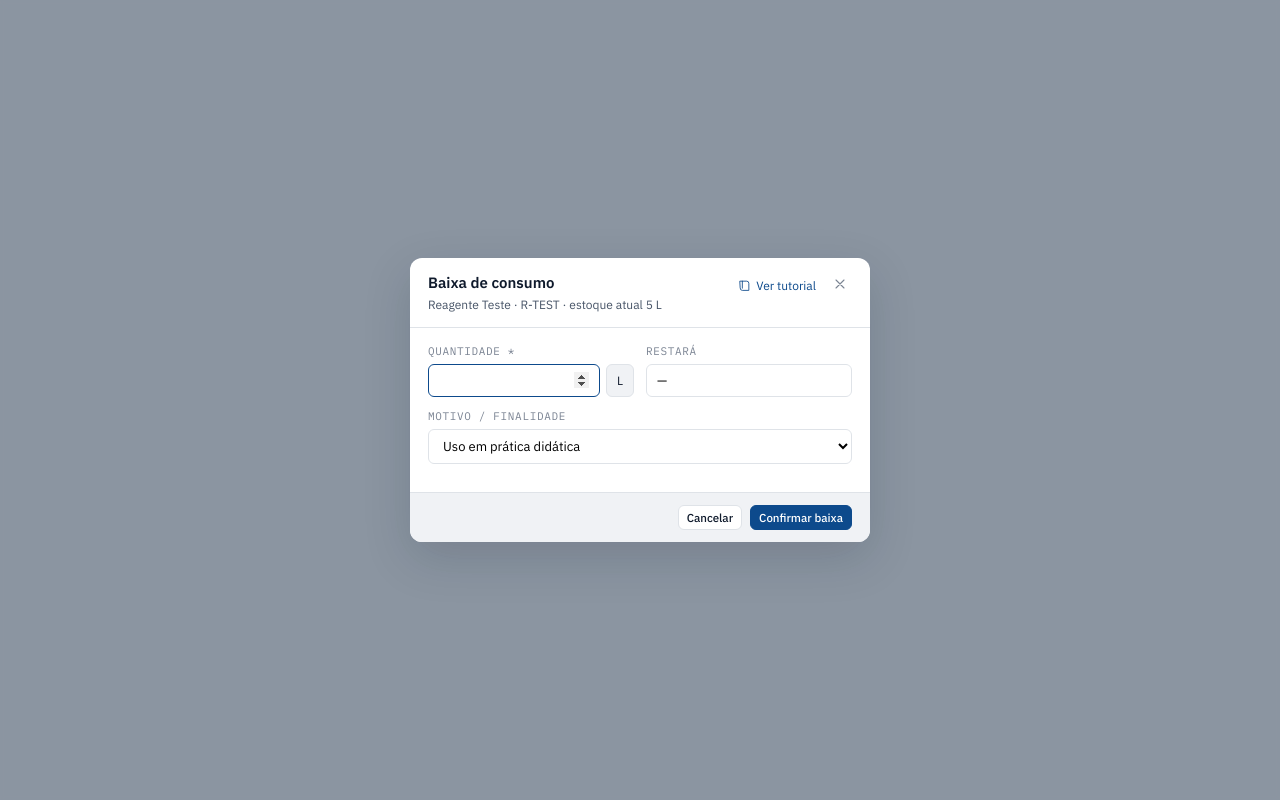
it: FormBaixa › recusa quantidade vazia com erro inline, sem alert
Click the button "Confirmar baixa" at coordinates (801, 518), box [750, 505, 852, 530]
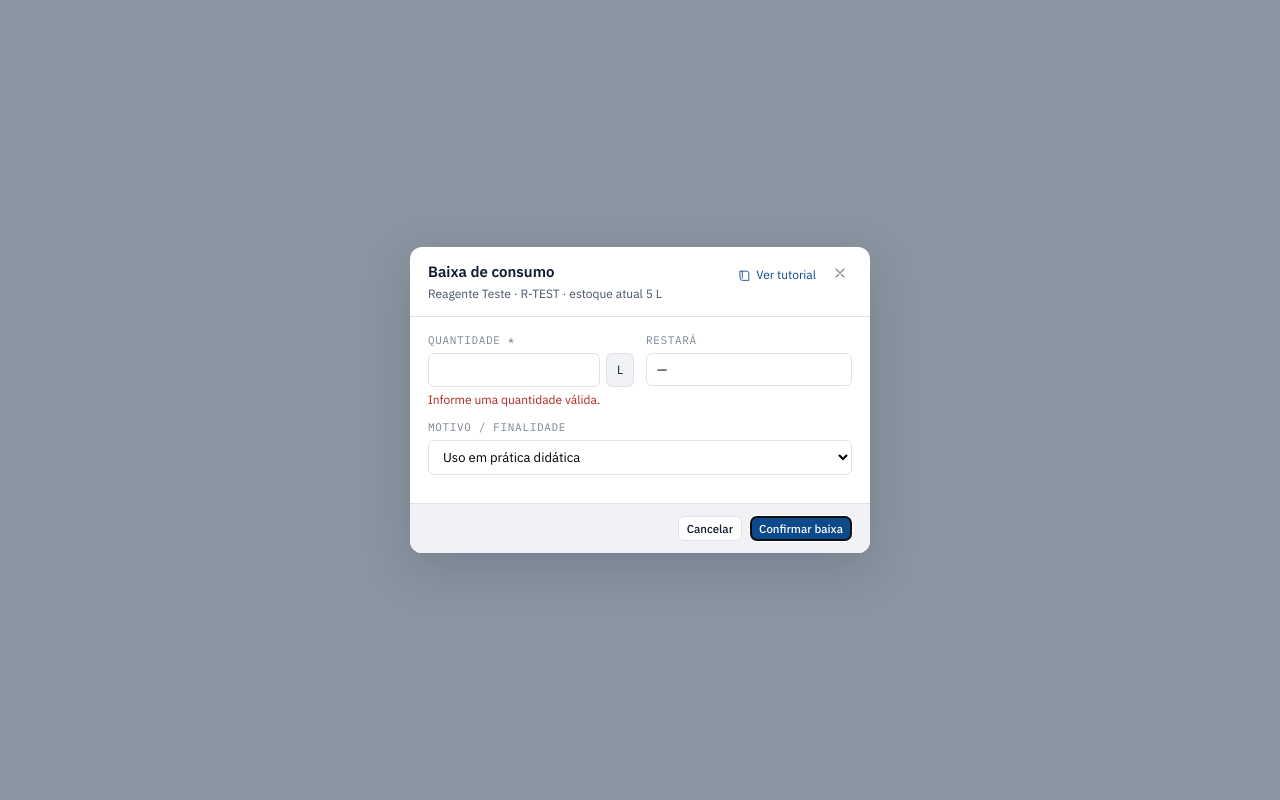
Check: the text "Informe uma quantidade válida." is shown, box [428, 392, 600, 407]
